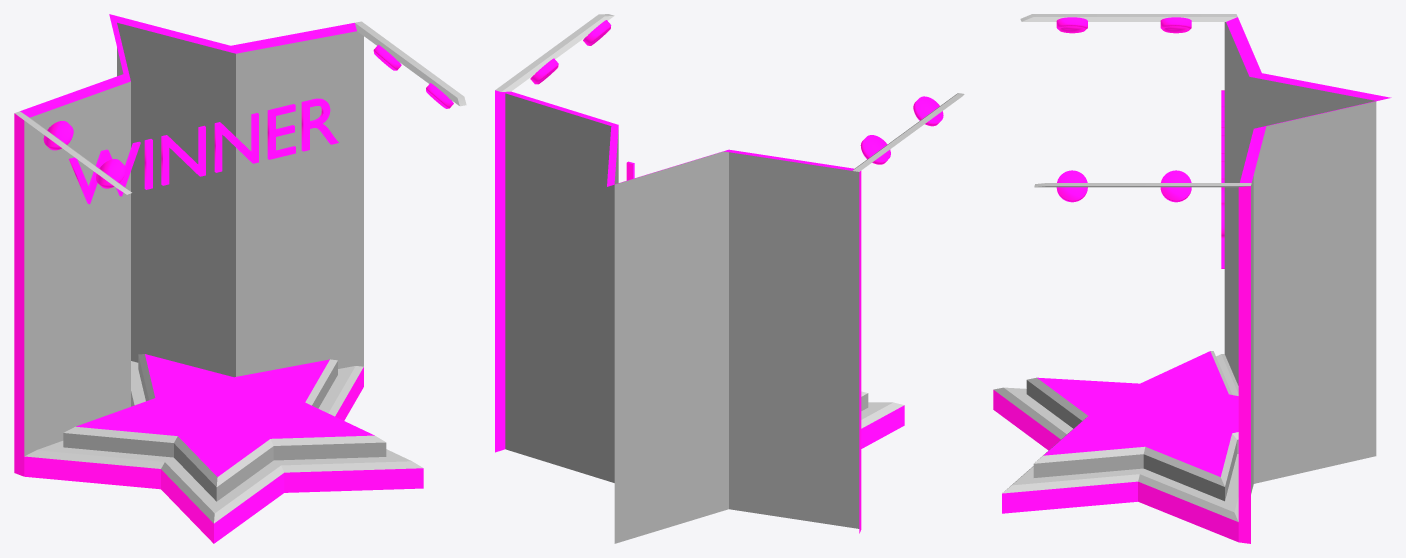
File: podium.fbx
The picture shows the model from 3 angles, left to right: view 1: azimuth 30°, elevation 25°; view 2: azimuth 150°, elevation 25°; view 3: azimuth 270°, elevation 25°; orthographic projection.
Visible parts, largest first — view 1: Star, Text, Star.001, Star.002; view 2: Star, Star.002; view 3: Star, Text, Star.003, Star.004.
Boxes of the visible parts, left/top/right/bottom form: Star: left=14, top=14, right=466, bottom=543; Text: left=69, top=98, right=338, bottom=204; Star.001: left=43, top=121, right=73, bottom=150; Star.002: left=96, top=159, right=125, bottom=188; Star: left=495, top=14, right=964, bottom=543; Star.002: left=913, top=96, right=943, bottom=126; Star: left=993, top=14, right=1391, bottom=543; Text: left=1221, top=90, right=1224, bottom=268; Star.003: left=1160, top=170, right=1191, bottom=202; Star.004: left=1056, top=170, right=1087, bottom=202.
Bounding box in the file's own units: 194 × 193 × 190.
